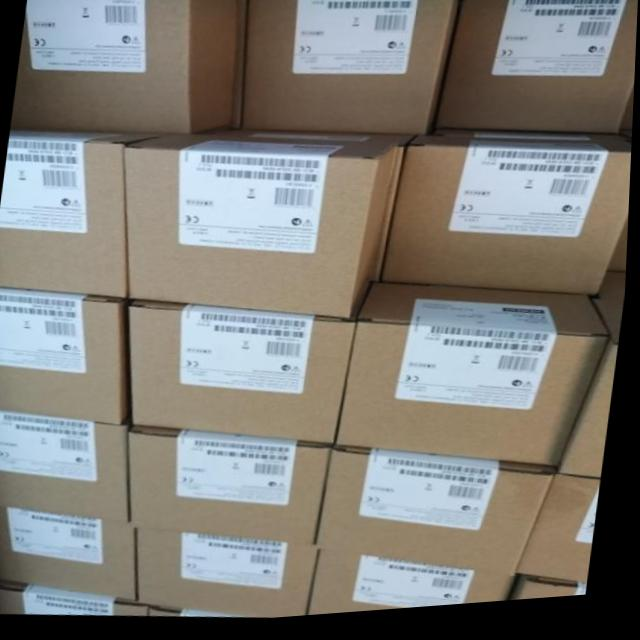box: (127, 129, 422, 325), (339, 283, 612, 475), (382, 134, 633, 304), (132, 281, 378, 451), (0, 126, 182, 299), (319, 453, 562, 582), (14, 0, 247, 134), (243, 0, 463, 136), (435, 4, 639, 142), (130, 428, 332, 551), (0, 289, 132, 428), (138, 532, 325, 621), (0, 413, 133, 529), (311, 552, 521, 621), (0, 507, 143, 600), (520, 485, 604, 594), (559, 345, 618, 491), (0, 584, 151, 616), (596, 225, 631, 355), (510, 583, 592, 609), (617, 91, 636, 151), (147, 604, 233, 617)
